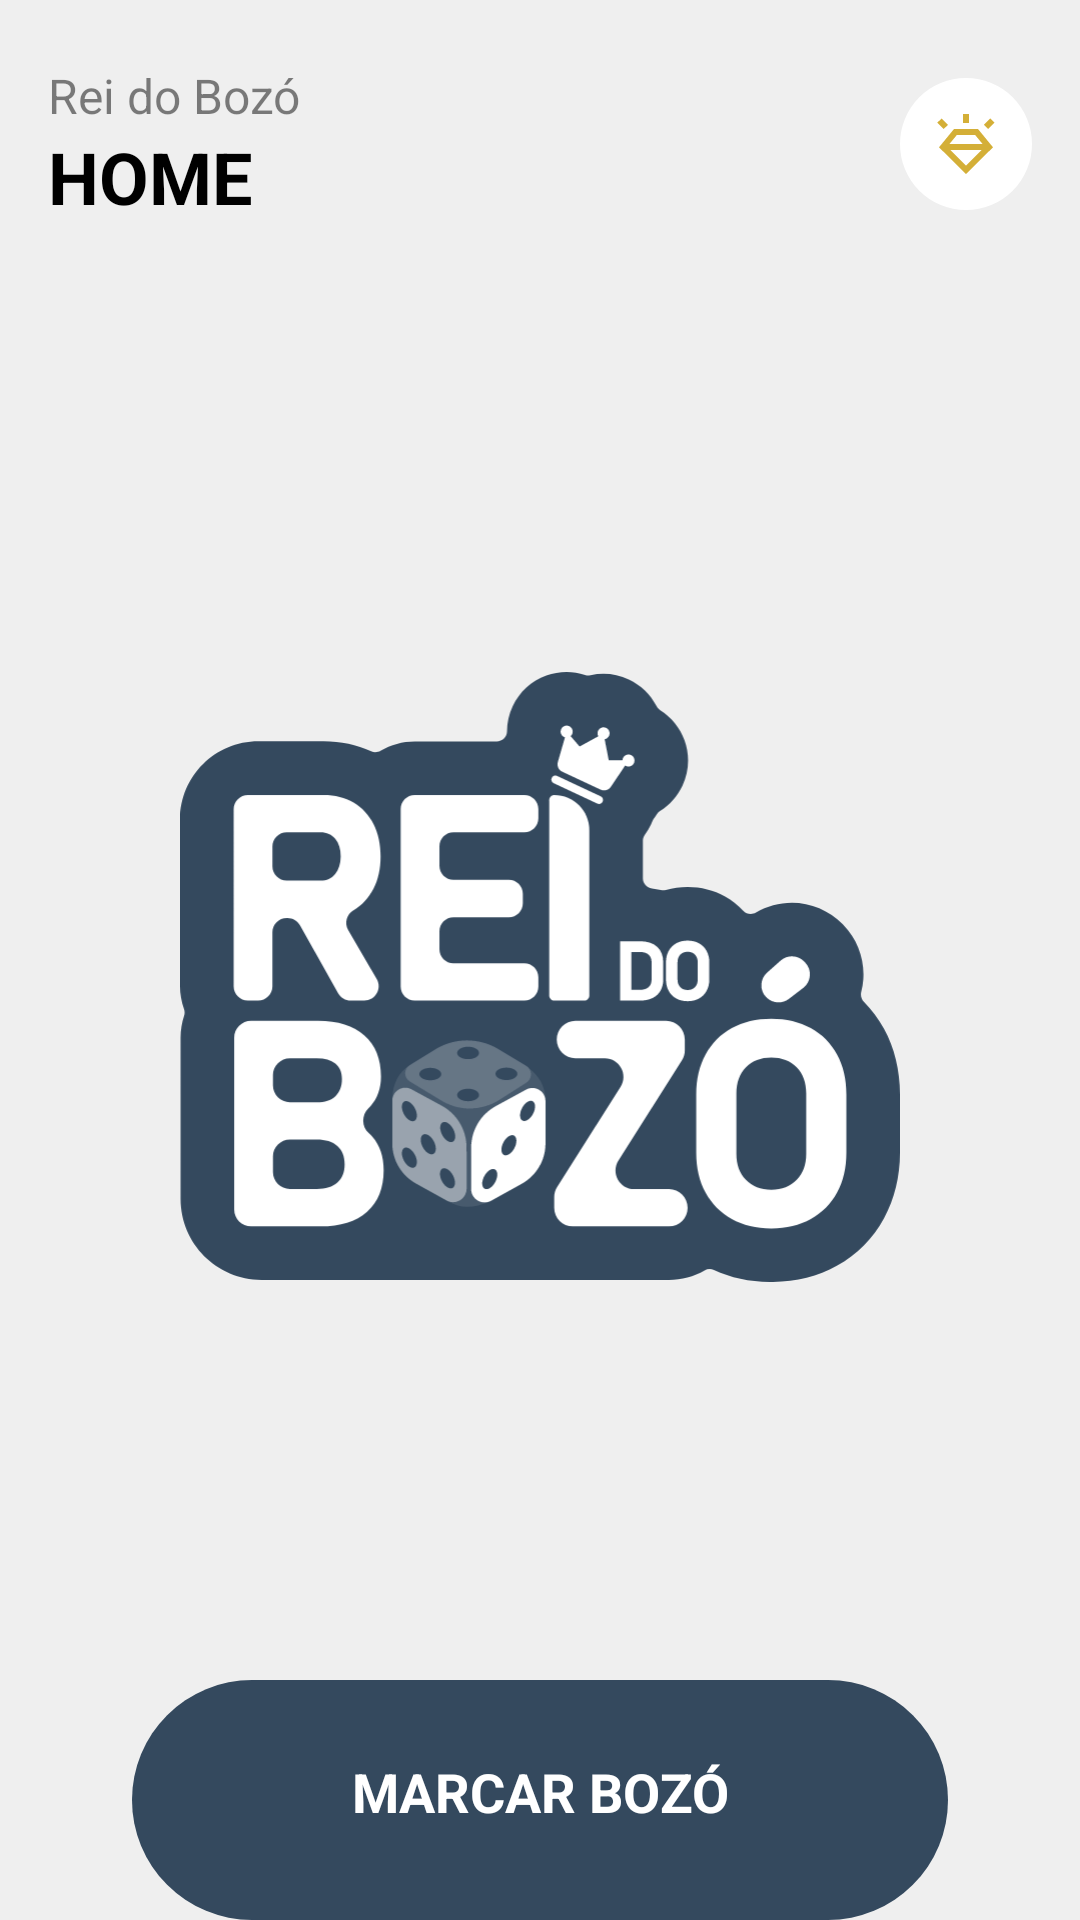

Screen size 1080x1920. Icon name, then its box in pixels as (x1, y1, x2, y2):
diamond shine: (900, 78, 1032, 210)
